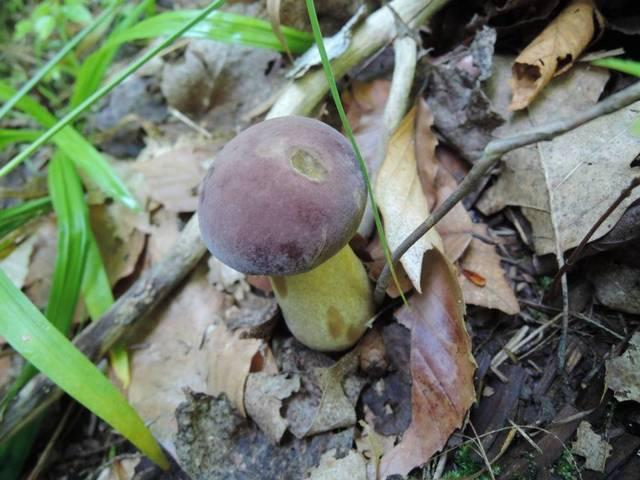poisonous_mushroom: (195, 113, 377, 352)
